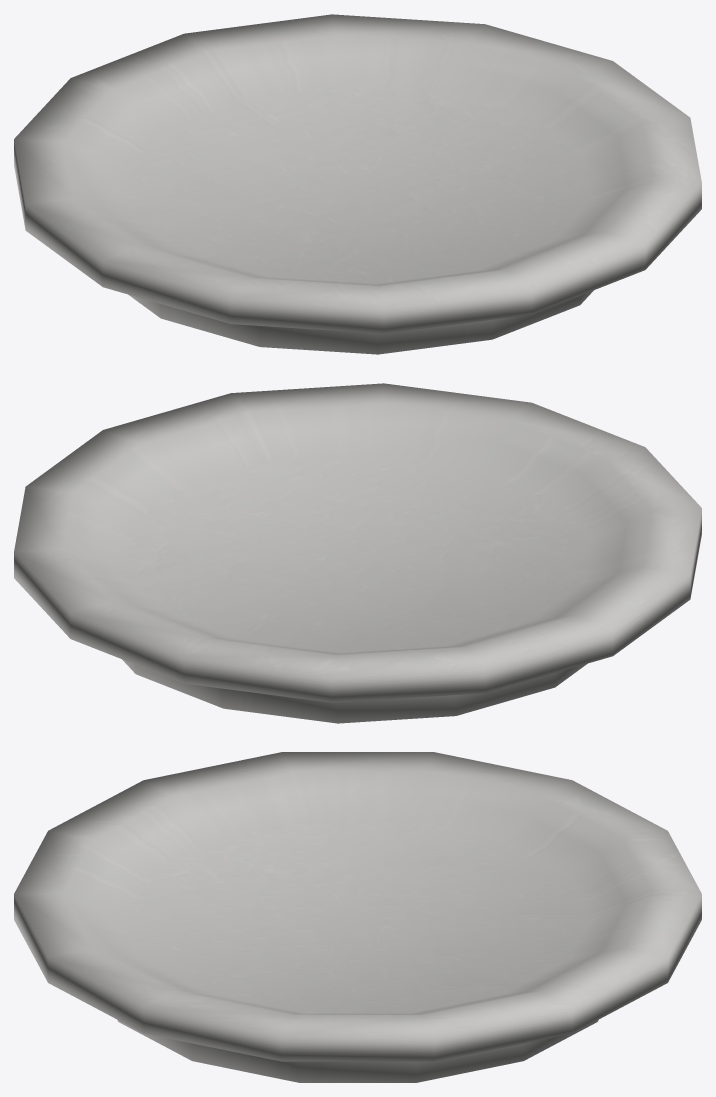
The model's file is piring.glb.
3 renders of one model, top to bottom at view 1: azimuth 30°, elevation 25°; view 2: azimuth 150°, elevation 25°; view 3: azimuth 270°, elevation 25°, orthographic.
Parts seen in each view (by area): view 1: Plate; view 2: Plate; view 3: Plate.
Part boxes in pixels (x1=…): Plate: x1=14, y1=14, x2=701, y2=354; Plate: x1=14, y1=383, x2=701, y2=723; Plate: x1=14, y1=752, x2=701, y2=1082.
Size of the model in its own units: 0.468 by 0.0611 by 0.48.
1 material, 1 textured.
